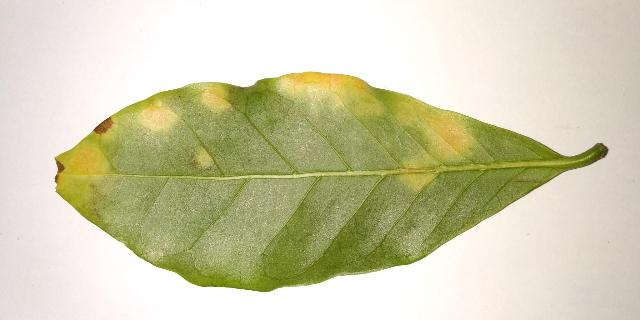miner: (394, 92, 481, 191), (275, 72, 383, 119), (55, 146, 105, 187), (141, 101, 177, 133), (202, 82, 231, 111), (89, 114, 117, 140), (195, 147, 212, 169)
